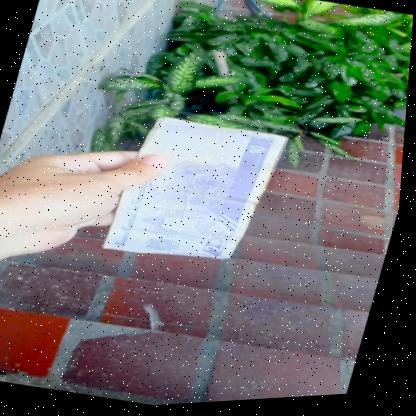ten-back-vef: (106, 109, 291, 282)
